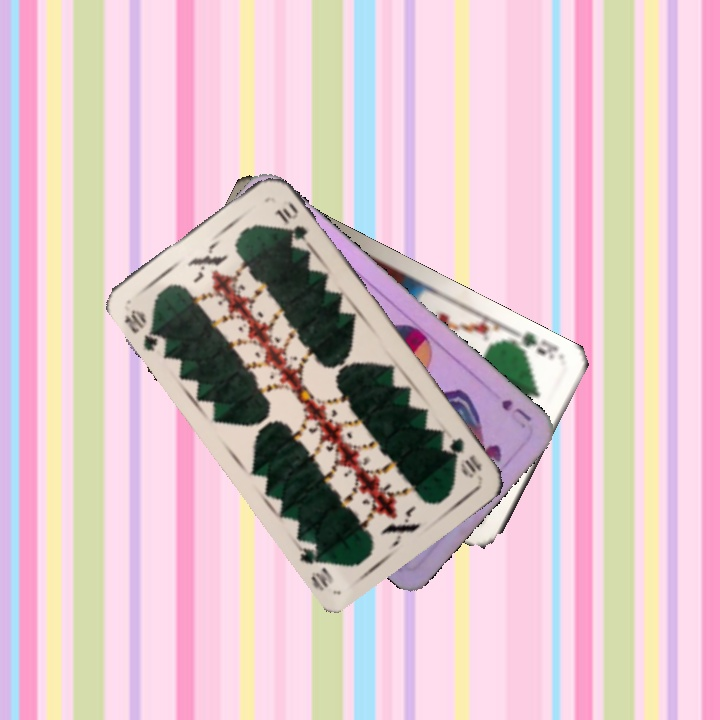G10: (120, 305, 170, 354), (445, 433, 485, 481)
GK: (508, 328, 561, 363)
SU: (497, 395, 534, 431)
